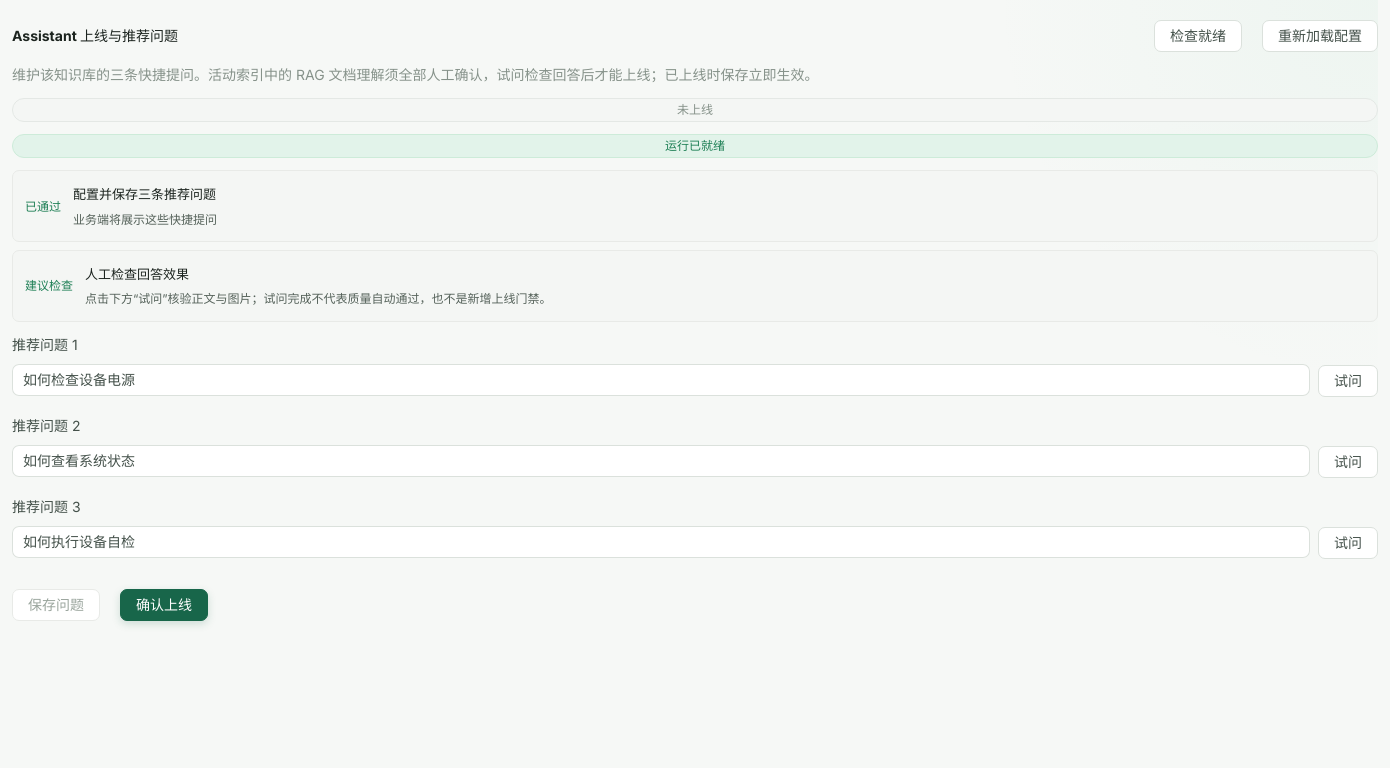
Test: knowledge Assistant settings › shows conflict without claiming success or losing edits
Replace the text in the field labelled "推荐问题 1" with "如何重启设备系统" at (661, 380), box 23,365 -> 1299,395
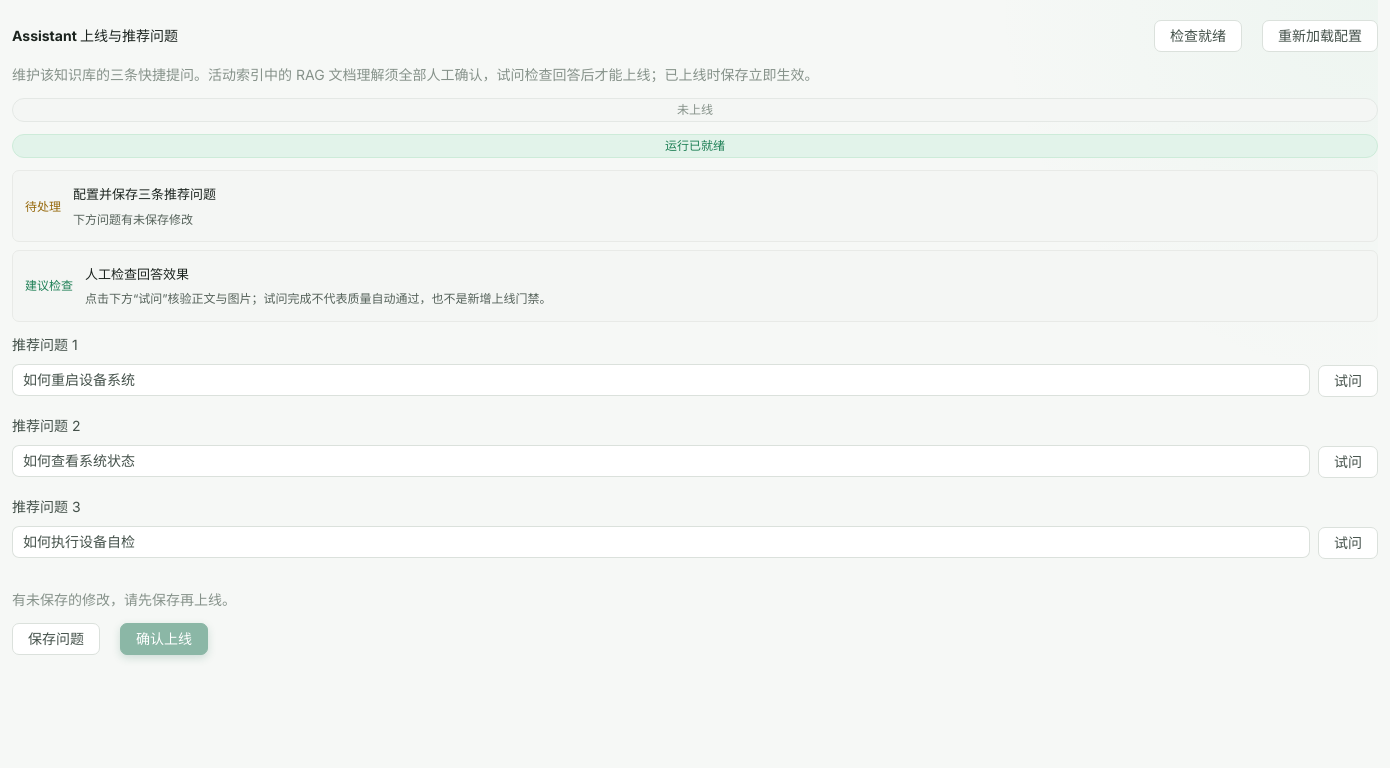
Click the button "保存问题" at (56, 640), box 12,624 -> 100,656
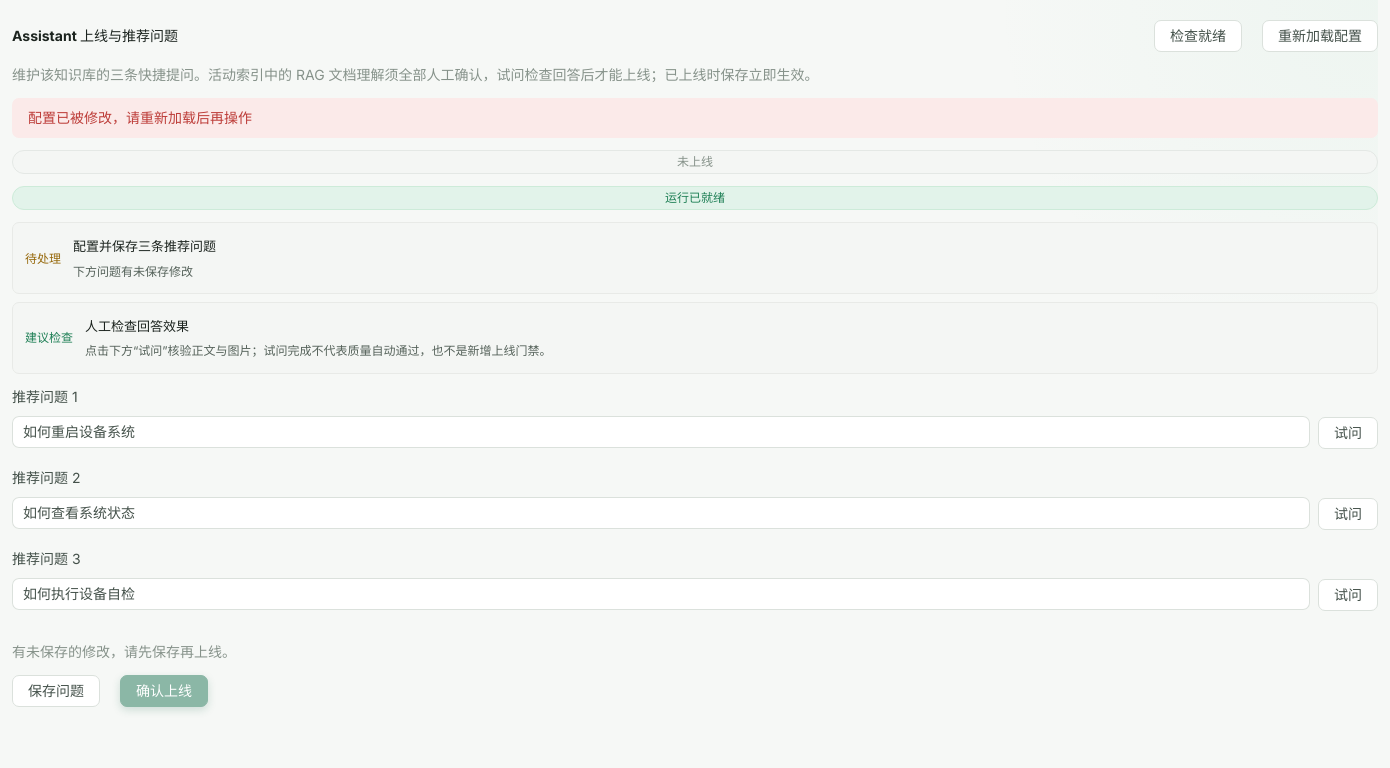
Expected: the text "配置已被修改" is shown, 28,109 -> 252,126
